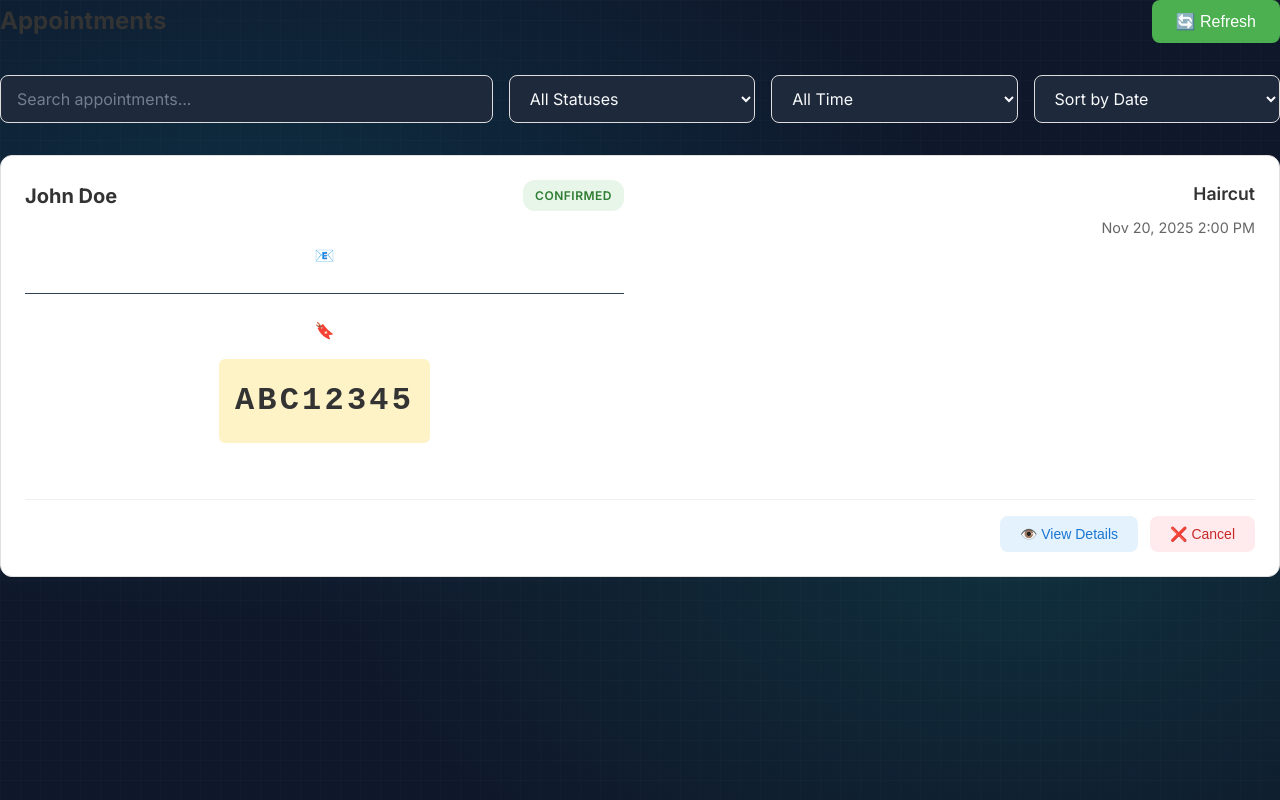
AppointmentList Component - TDD › Error Handling › should handle cancel error gracefully
The width and height of the screenshot is (1280, 800).
Step 1. Click the button "❌ Cancel" → (1203, 534), box [1150, 516, 1255, 552]
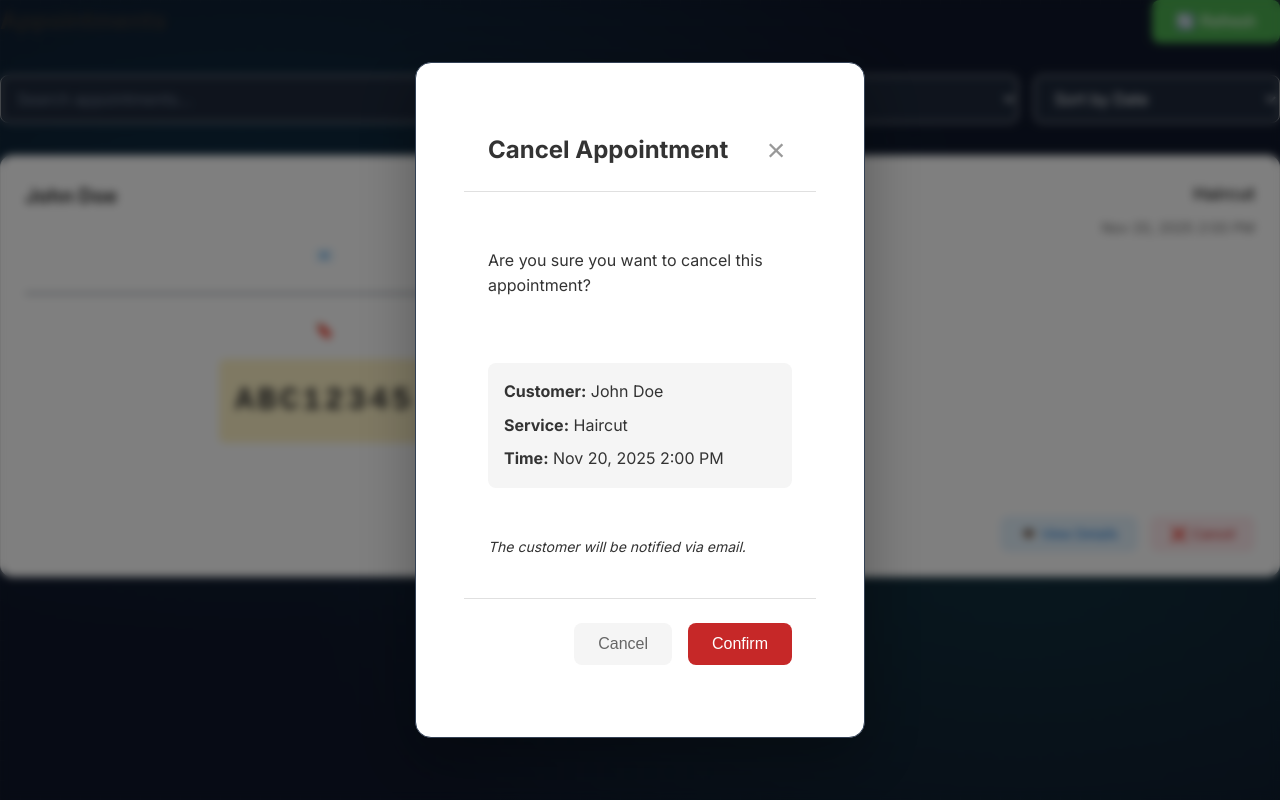
Step 2. Click the button "Confirm" → (740, 644), box [688, 623, 792, 665]
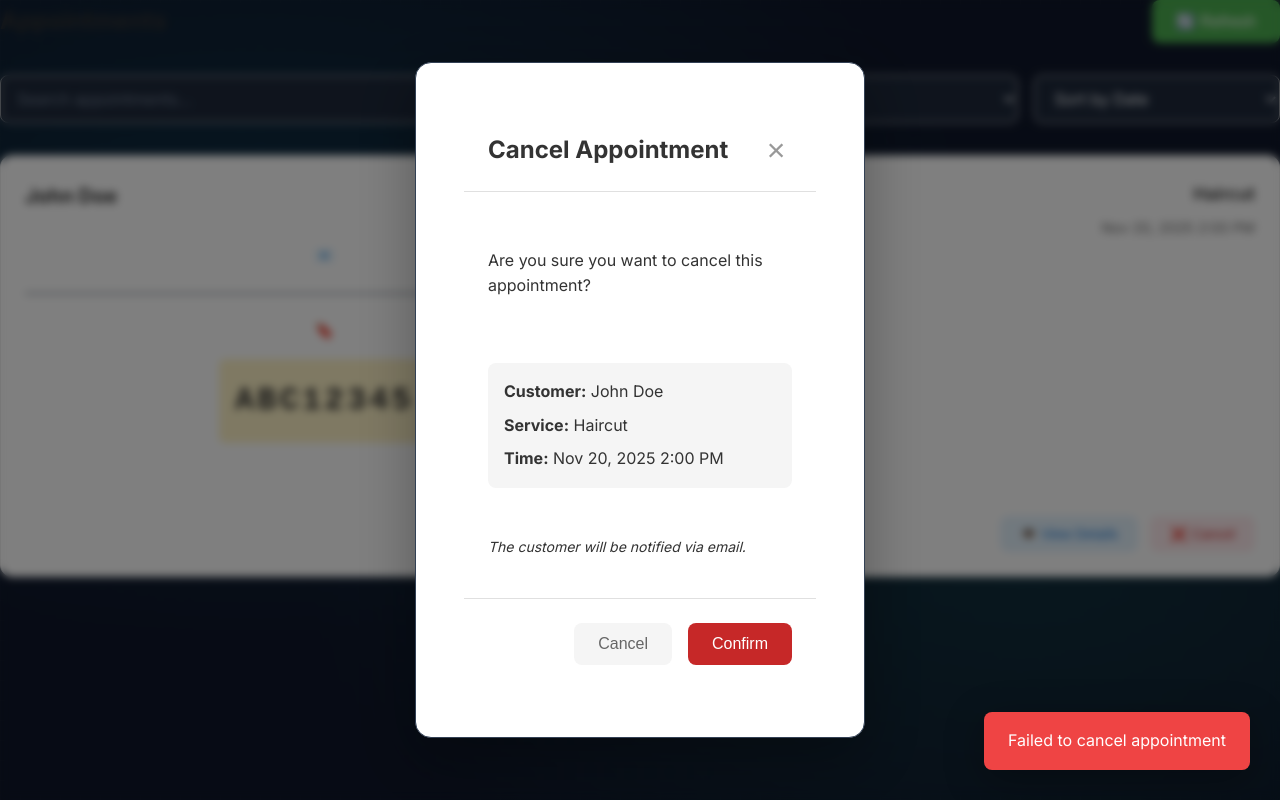
Now the text "Failed to cancel appointment" is shown, box [984, 712, 1250, 770]
